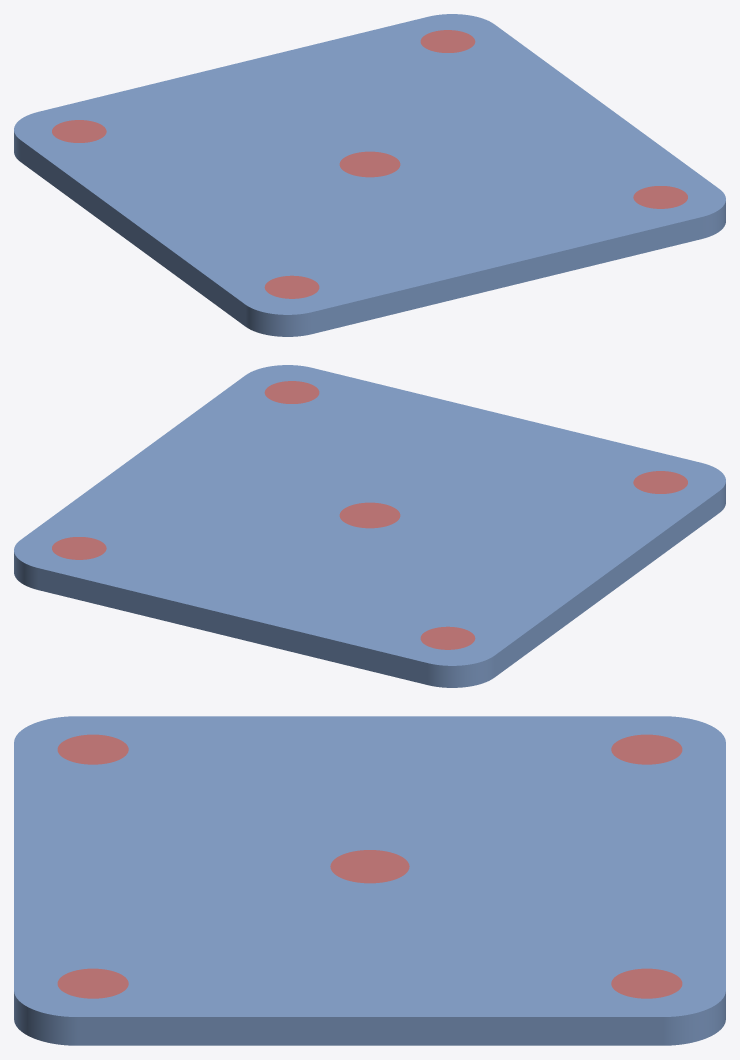
File: step_03.glb
3 views of the same model, one above another, from view 1: azimuth 30°, elevation 25°; view 2: azimuth 150°, elevation 25°; view 3: azimuth 270°, elevation 25° (orthographic). The views are drawn at different scales.
Visible parts, largest first — view 1: part__top plate, removed__top plate; view 2: part__top plate, removed__top plate; view 3: part__top plate, removed__top plate.
Boxes of the visible parts, x1,y1,x2,y2 form: part__top plate: (14,14,725,336); removed__top plate: (52,30,687,298); part__top plate: (14,365,725,687); removed__top plate: (52,381,687,649); part__top plate: (14,716,725,1045); removed__top plate: (57,734,682,998).
Size of the model in its own units: 90 by 4 by 90.
